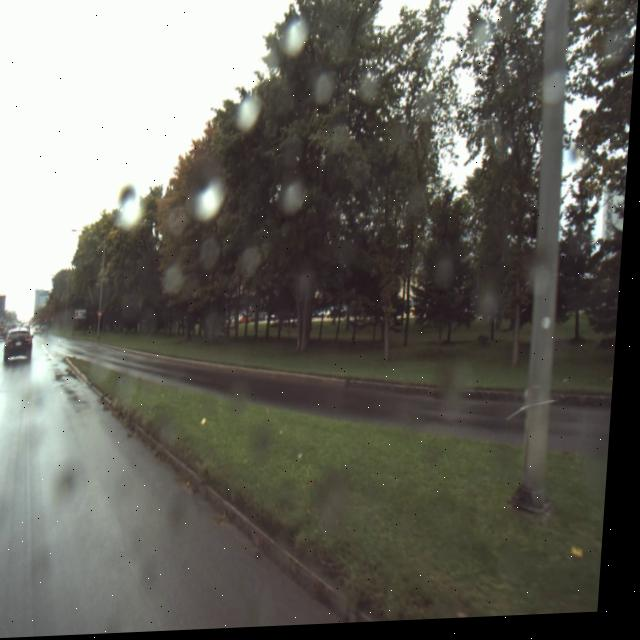car: (9, 328, 39, 365), (0, 326, 12, 343)
